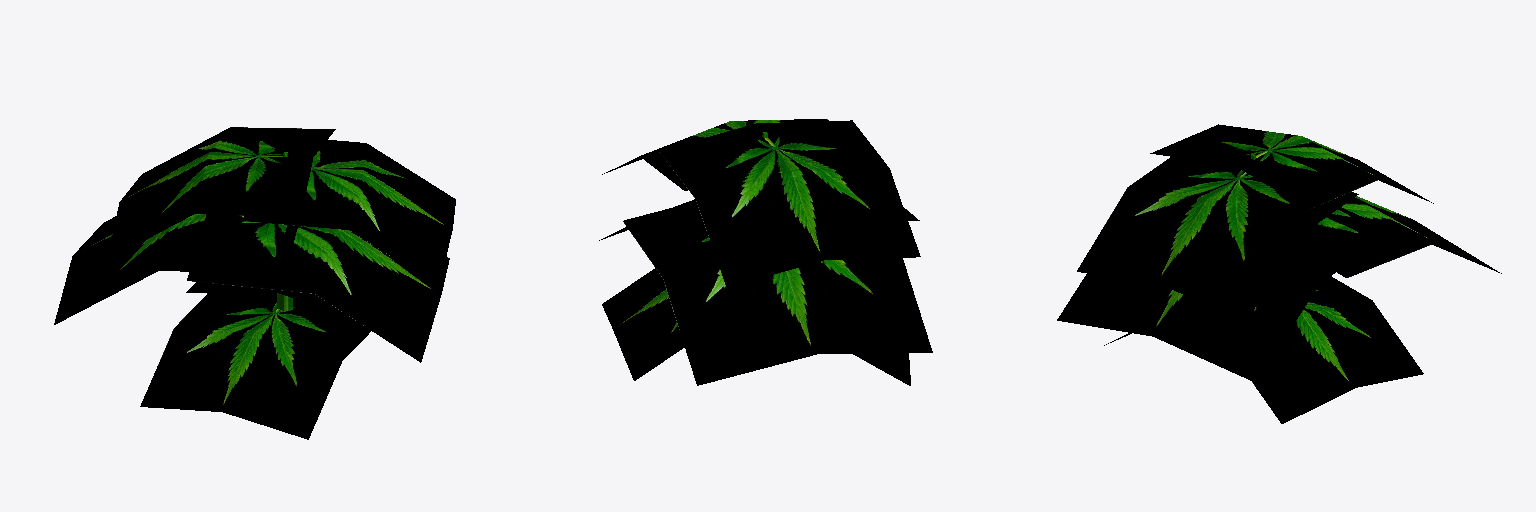
3 renders of one model, left to right at view 1: azimuth 30°, elevation 25°; view 2: azimuth 150°, elevation 25°; view 3: azimuth 270°, elevation 25°, orthographic.
Parts seen in each view (by area): view 1: Plane.002_Plane.011; view 2: Plane.002_Plane.011; view 3: Plane.002_Plane.011.
Part boxes in pixels (x1,y1,x2,y2): Plane.002_Plane.011: (54,127,455,439); Plane.002_Plane.011: (599,119,932,385); Plane.002_Plane.011: (1057,124,1501,423).
Bounding box in the file's own units: 0.5684 × 0.3234 × 0.5985.
Materials: 1 (1 with a texture image).